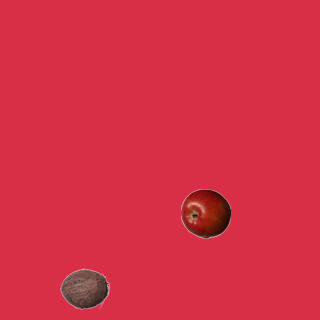Apple Braeburn: (180, 188, 230, 238)
Cocos: (59, 263, 109, 313)
